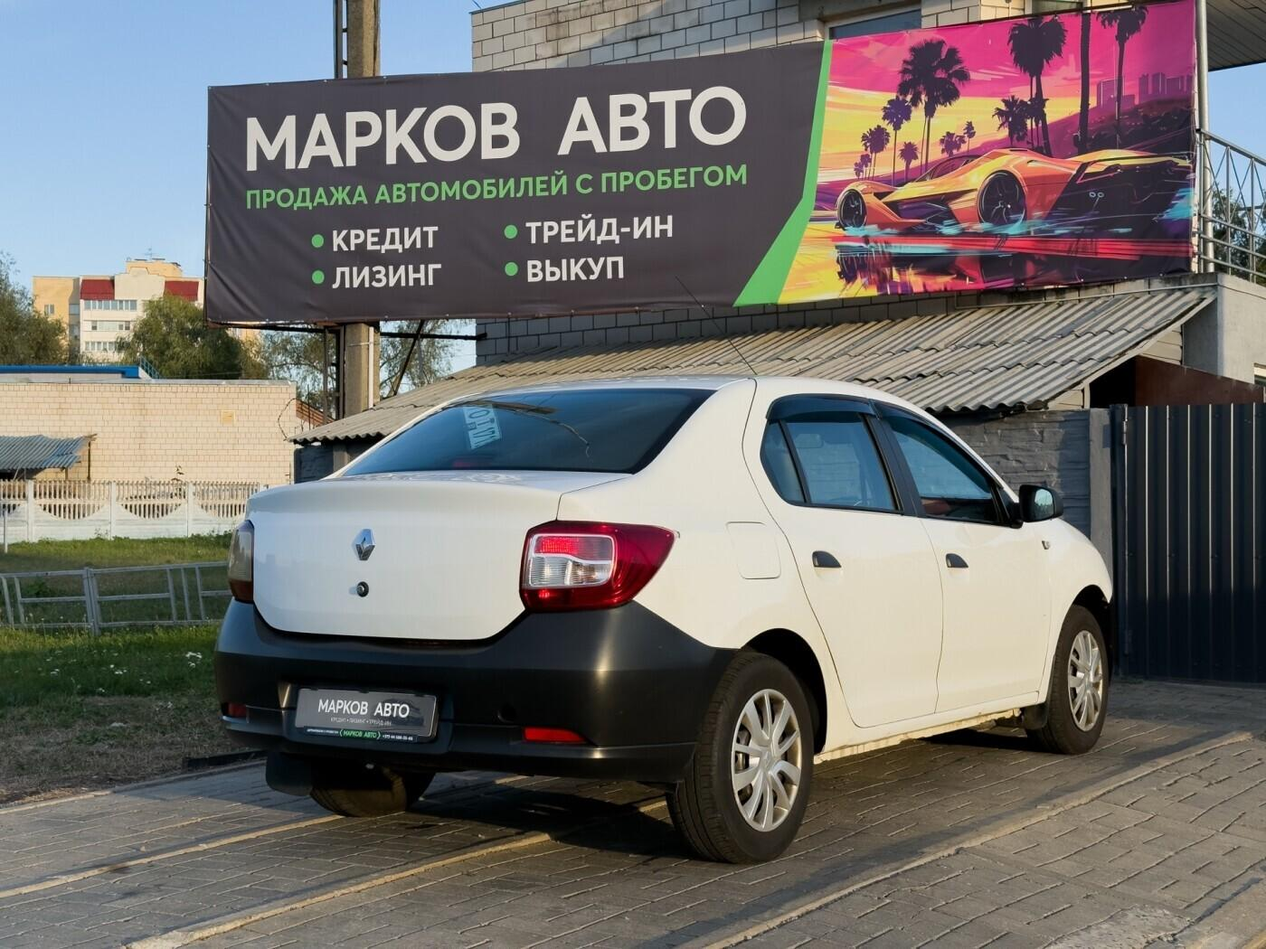Logan_2018: (204, 373, 1123, 853)
